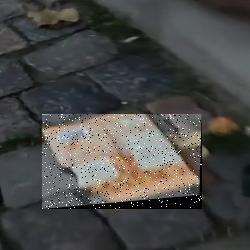plastic: (42, 114, 202, 209)
